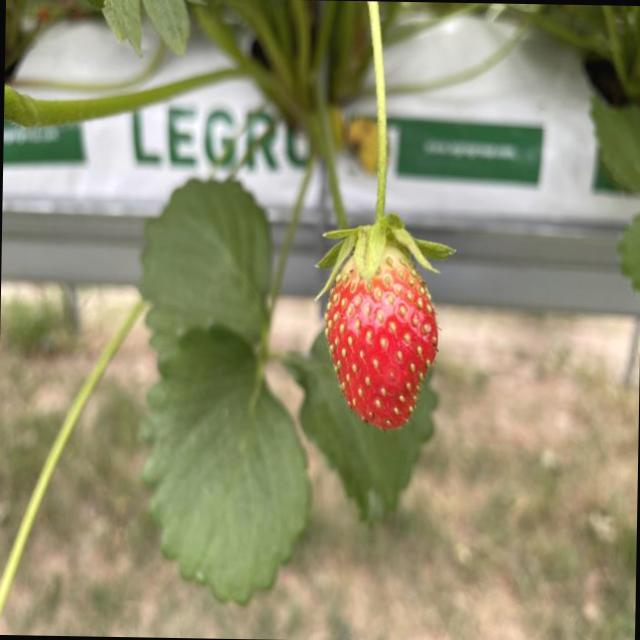stem: (316, 213, 455, 296)
strawberryR: (324, 247, 438, 429)
